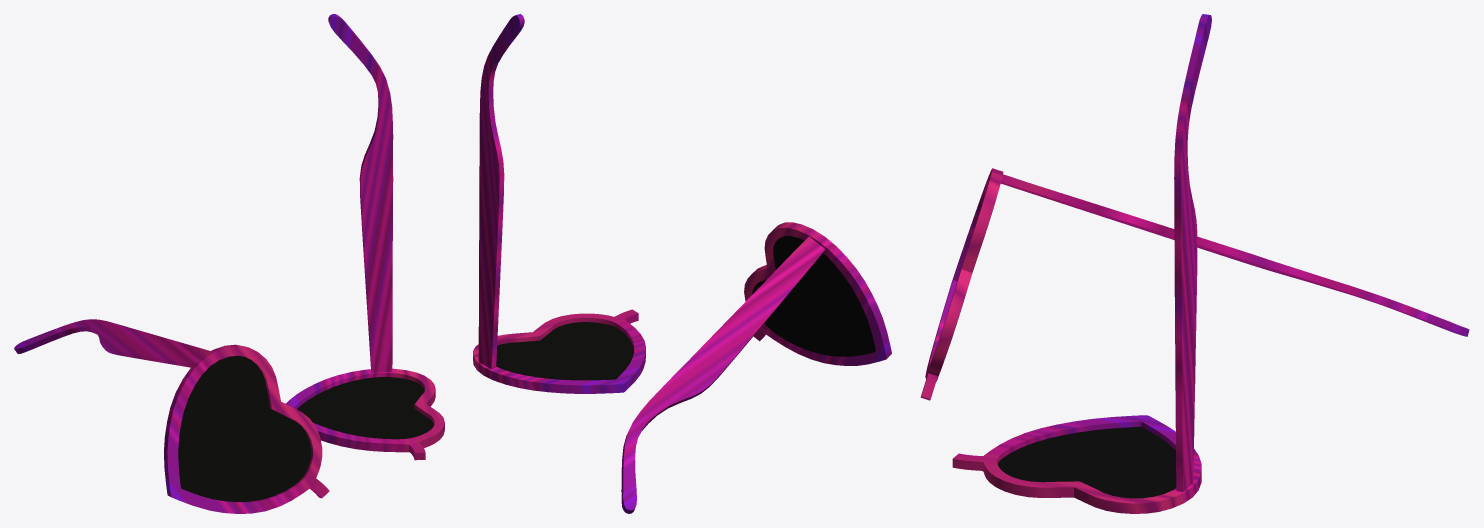
Rendered from glassesBroken.glb.
3 renders of one model, left to right at view 1: azimuth 30°, elevation 25°; view 2: azimuth 150°, elevation 25°; view 3: azimuth 270°, elevation 25°, orthographic. The views are drawn at different scales.
Parts seen in each view (by area): view 1: brokenGlasses.002; view 2: brokenGlasses.002; view 3: brokenGlasses.002.
Part boxes in pixels (bbox=[...]): brokenGlasses.002: bbox=[14, 14, 444, 513]; brokenGlasses.002: bbox=[473, 14, 891, 513]; brokenGlasses.002: bbox=[920, 14, 1469, 513].
Size of the model in its own units: 0.7589 by 0.8153 by 0.8726.
Materials: 1 (1 with a texture image).
